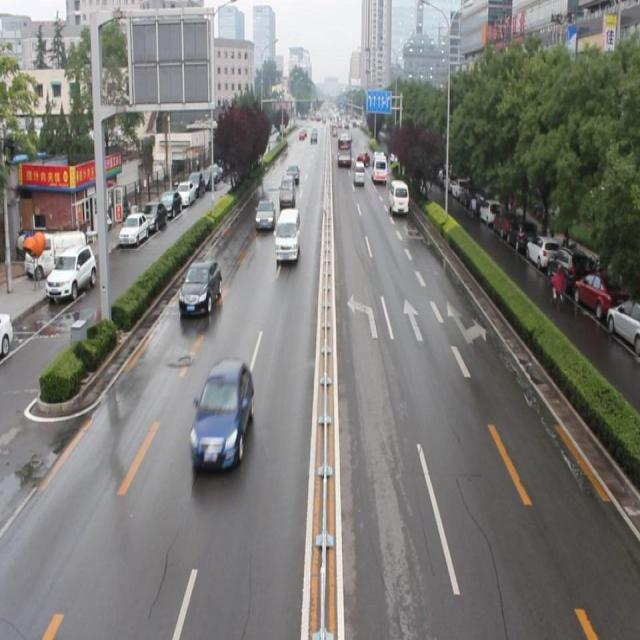car: (189, 354, 256, 474), (179, 259, 225, 317), (254, 196, 274, 231), (285, 161, 299, 183)
truck: (271, 208, 302, 263), (388, 177, 408, 216), (277, 175, 297, 210), (371, 150, 386, 182), (351, 161, 364, 183)
